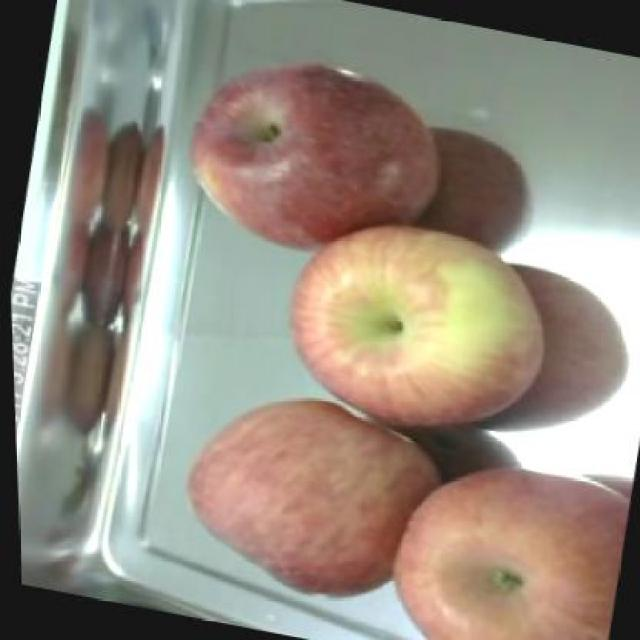Fresh Apple: (291, 231, 549, 434), (403, 474, 640, 640), (204, 80, 438, 245), (203, 402, 417, 582)
